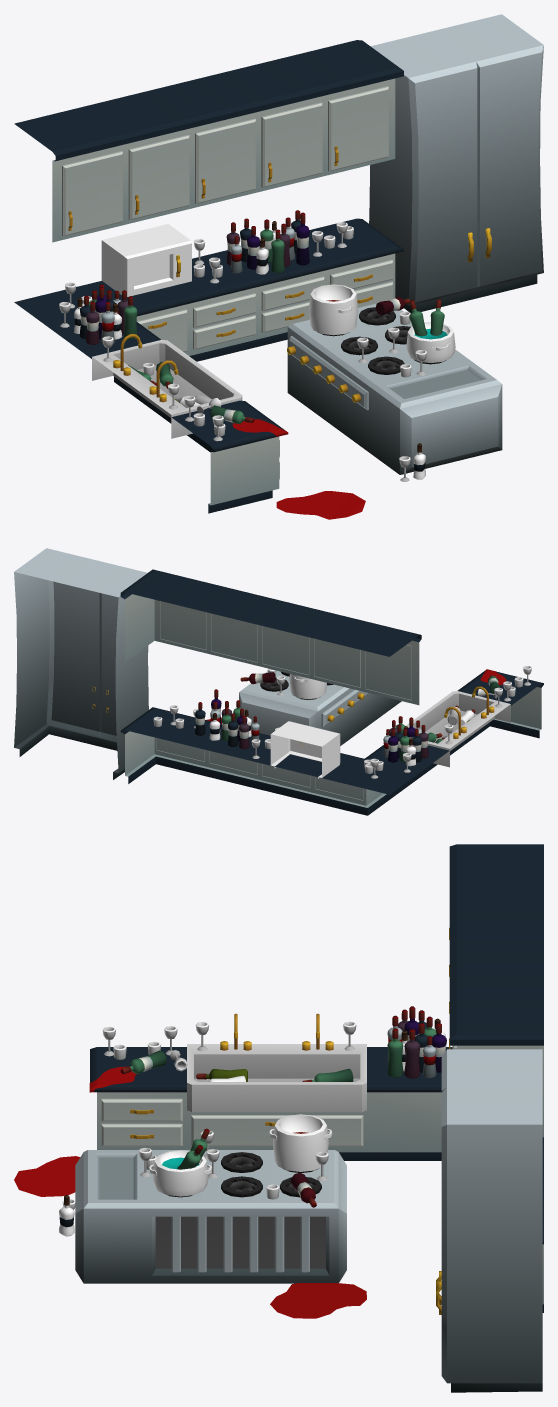
The model's file is Kitchen.fbx.
The picture shows the model from 3 angles, top to bottom: view 1: azimuth 30°, elevation 25°; view 2: azimuth 150°, elevation 25°; view 3: azimuth 270°, elevation 25°; orthographic projection. The views are drawn at different scales.
Parts seen in each view (by area): view 1: ArmarioInferior, ArmarioSuperior, Geladeira, Fogão; view 2: ArmarioInferior, Geladeira, ArmarioSuperior, Fogão; view 3: Fogão, ArmarioInferior, Geladeira, ArmarioSuperior.
Part boxes in pixels (bbox=[...]): ArmarioInferior: bbox=[14, 210, 403, 519]; ArmarioSuperior: bbox=[14, 40, 403, 242]; Geladeira: bbox=[369, 14, 543, 313]; Fogão: bbox=[287, 284, 502, 481]; ArmarioInferior: bbox=[120, 665, 543, 815]; Geladeira: bbox=[14, 548, 148, 779]; ArmarioSuperior: bbox=[120, 569, 421, 705]; Fogão: bbox=[206, 668, 401, 745]; Fogão: bbox=[59, 1114, 366, 1318]; ArmarioInferior: bbox=[14, 1006, 543, 1312]; Geladeira: bbox=[436, 1049, 542, 1392]; ArmarioSuperior: bbox=[449, 844, 543, 1137].
Size of the model in its own units: 636 by 309 by 528.
